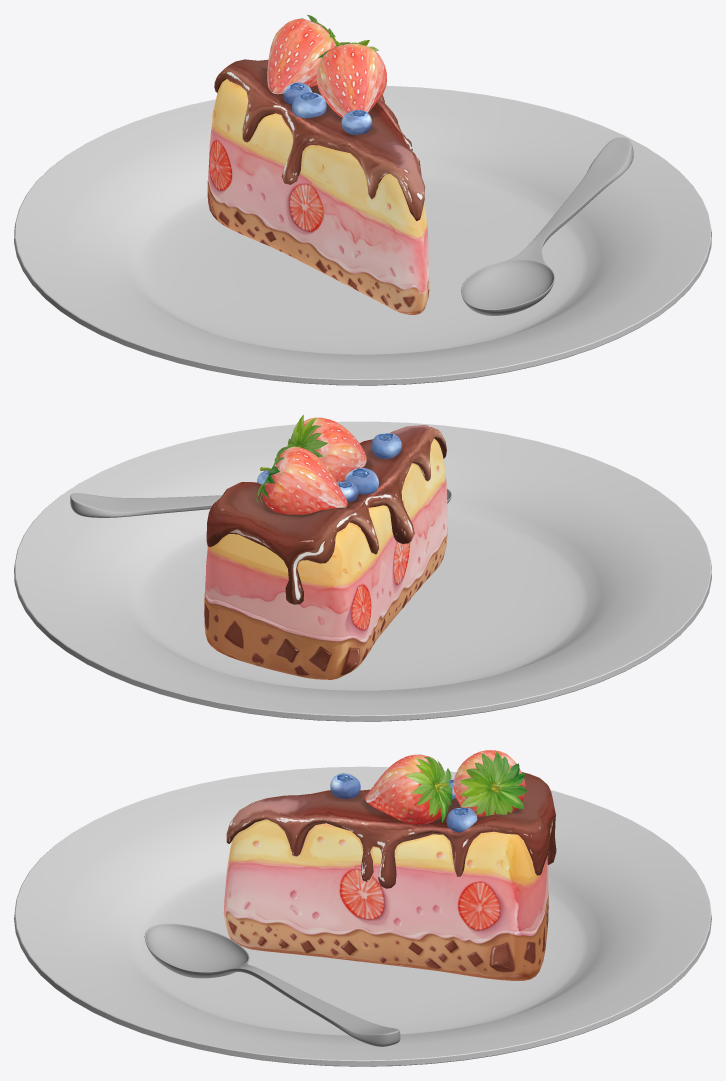
Rendered from plate+spoon+cheesecake1 all transforms+animation1.glb.
The picture shows the model from 3 angles, top to bottom: view 1: azimuth 30°, elevation 25°; view 2: azimuth 150°, elevation 25°; view 3: azimuth 270°, elevation 25°; orthographic projection.
Parts seen in each view (by area): view 1: plate_plate_0; view 2: plate_plate_0; view 3: plate_plate_0.
Part boxes in pixels (x1,y1,x2,y2): plate_plate_0: [14, 15, 711, 385]; plate_plate_0: [14, 414, 711, 721]; plate_plate_0: [14, 750, 711, 1066].
Size of the model in its own units: 9.58 by 3.16 by 9.58.
3 materials, 1 textured.
